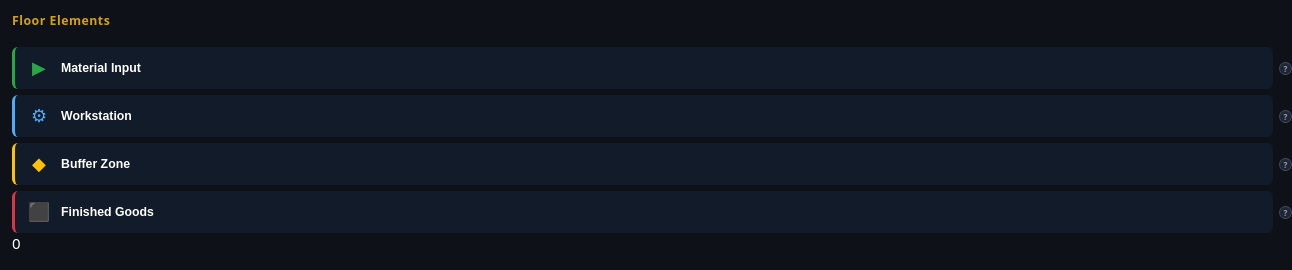
Scenario: ElementPalette (StationPalette) › adds a station to the layout when the Workstation button is clicked
Click the button with aria-label "Add Workstation". click: (96, 116)
box: [12, 95, 1273, 137]
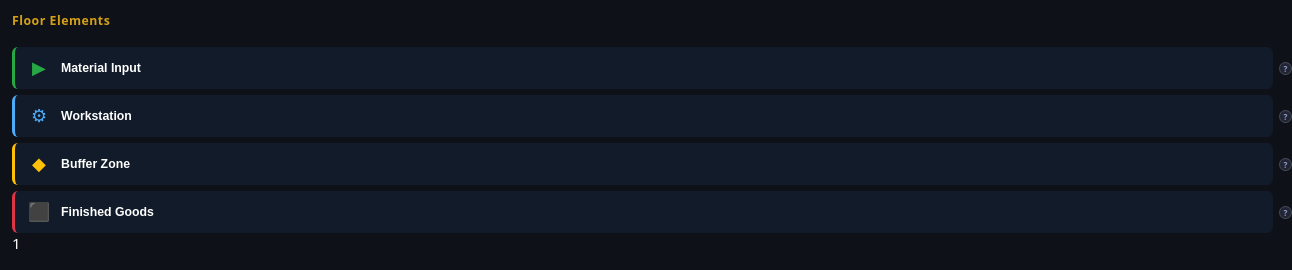
Expected: the text with test id "count" reads "1", [12, 233, 21, 253]
